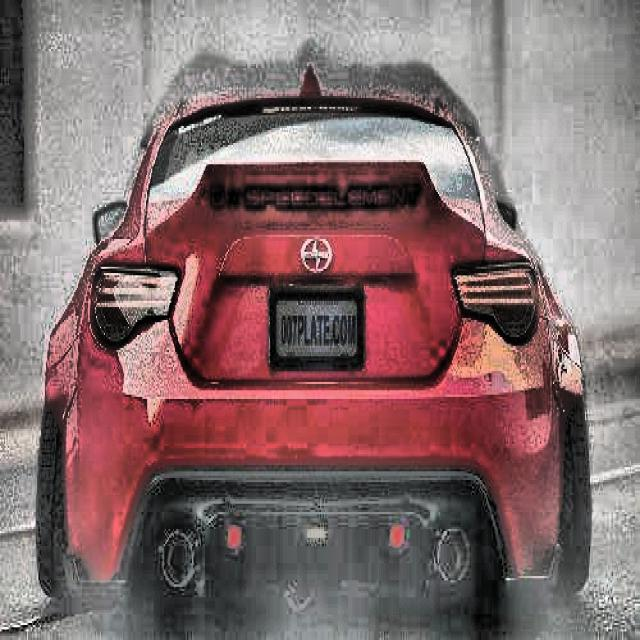license_plate: (272, 296, 361, 362)
